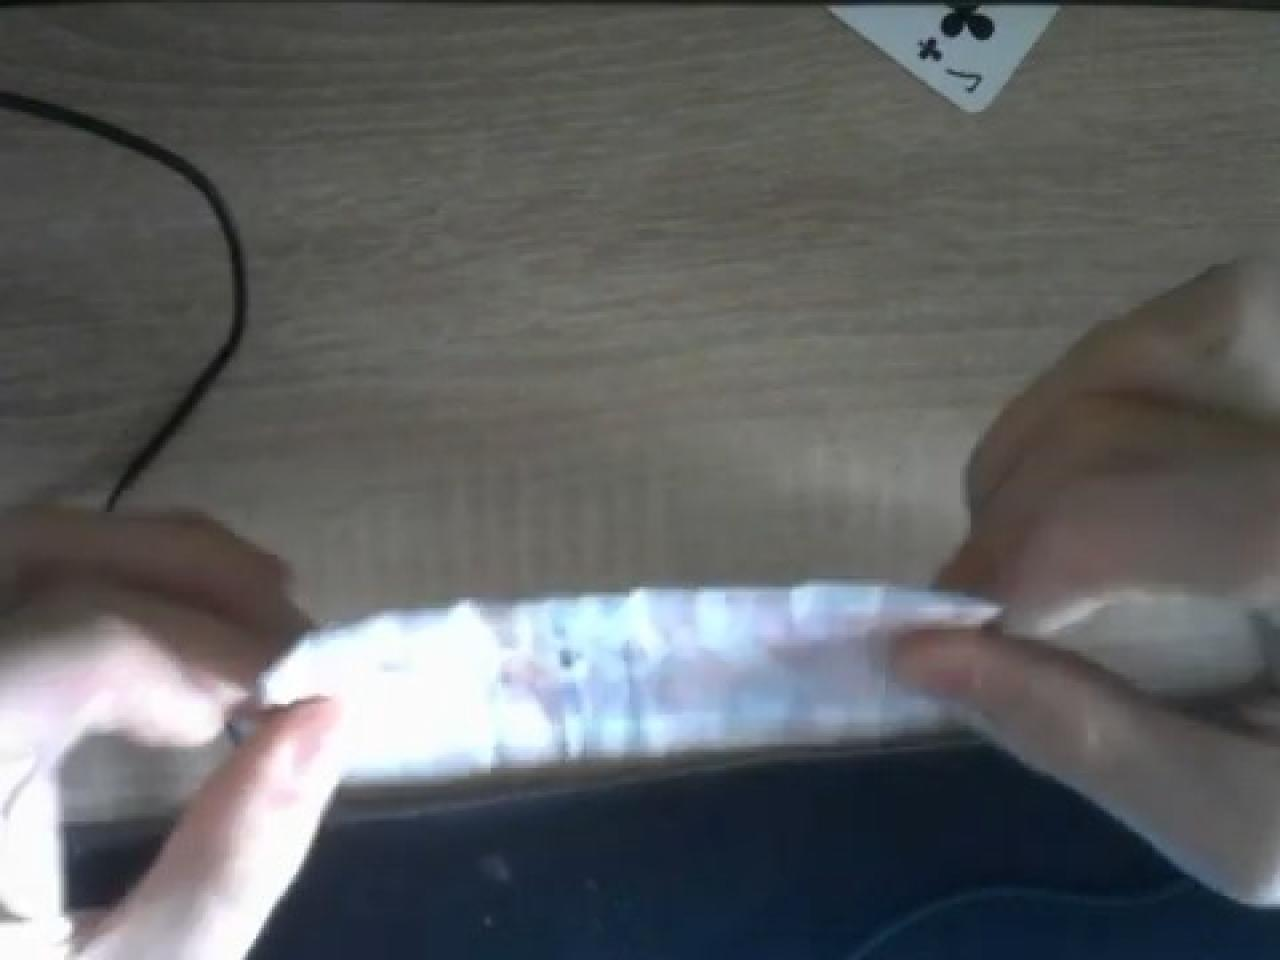5leva: (267, 579, 997, 797)
